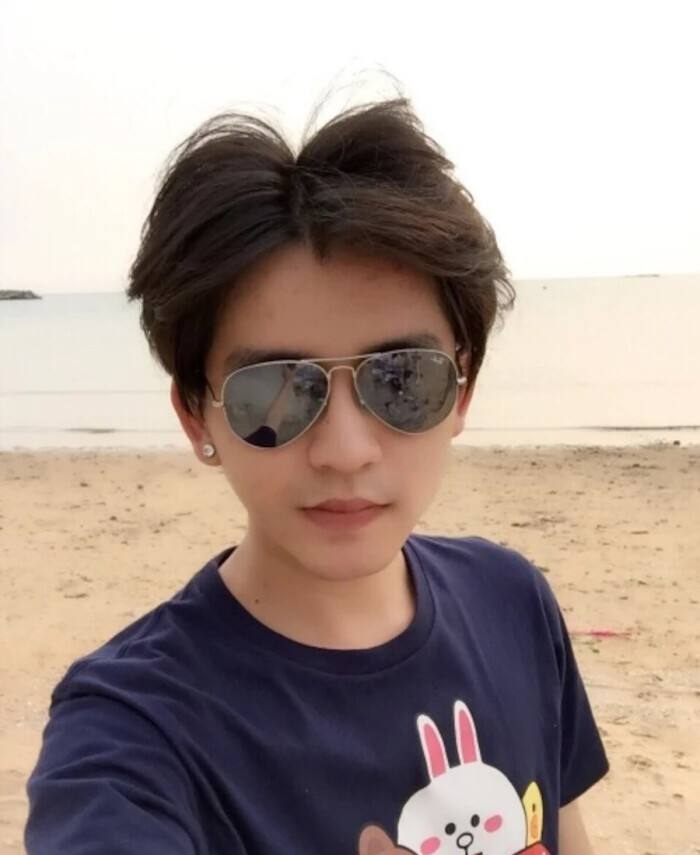person: (107, 128, 630, 836)
